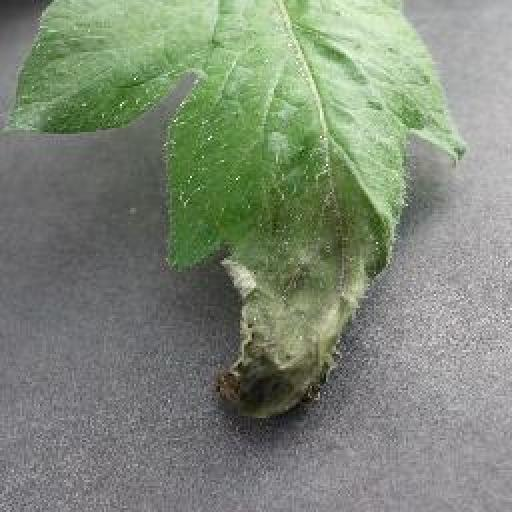disease_tomato: (0, 0, 464, 434)
